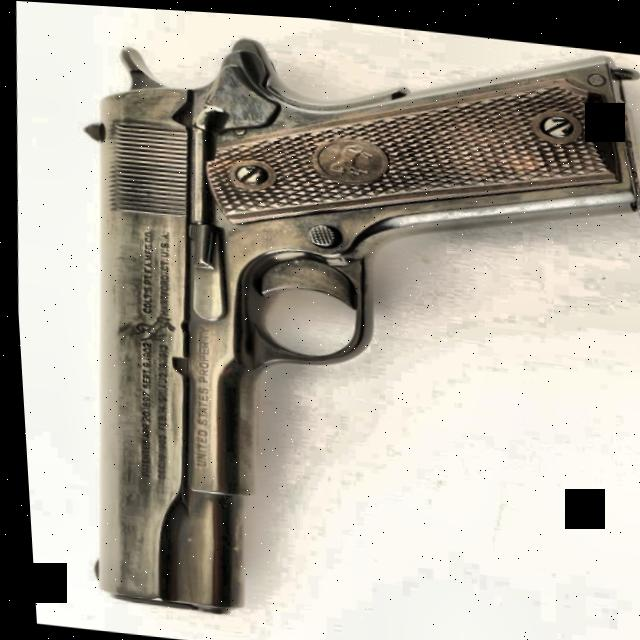Colt m1911: (51, 2, 640, 640)
